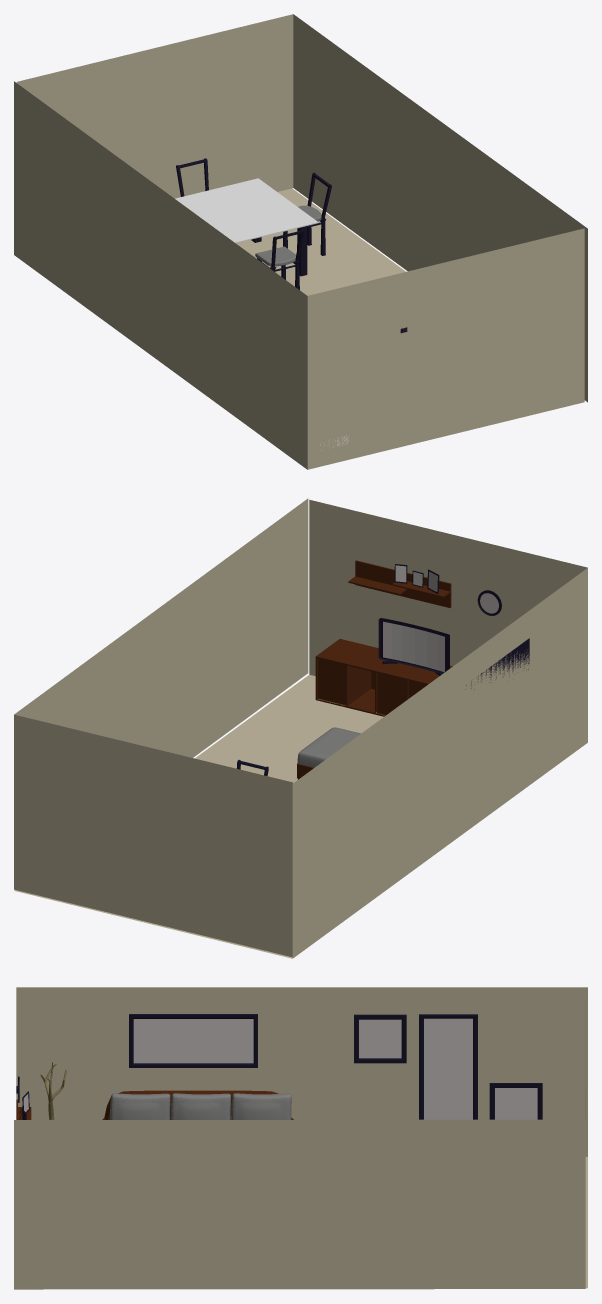
The model's file is Interior.fbx.
The picture shows the model from 3 angles, top to bottom: view 1: azimuth 30°, elevation 25°; view 2: azimuth 150°, elevation 25°; view 3: azimuth 270°, elevation 25°; orthographic projection. The views are drawn at different scales.
Visible parts, largest first — view 1: room_walls_0; view 2: room_walls_0; view 3: room_walls_0.
Boxes of the visible parts, x1,y1,x2,y2 form: room_walls_0: [14, 14, 587, 469]; room_walls_0: [14, 498, 587, 958]; room_walls_0: [14, 987, 587, 1289].
Size of the model in its own units: 11226 by 6681 by 20523.
